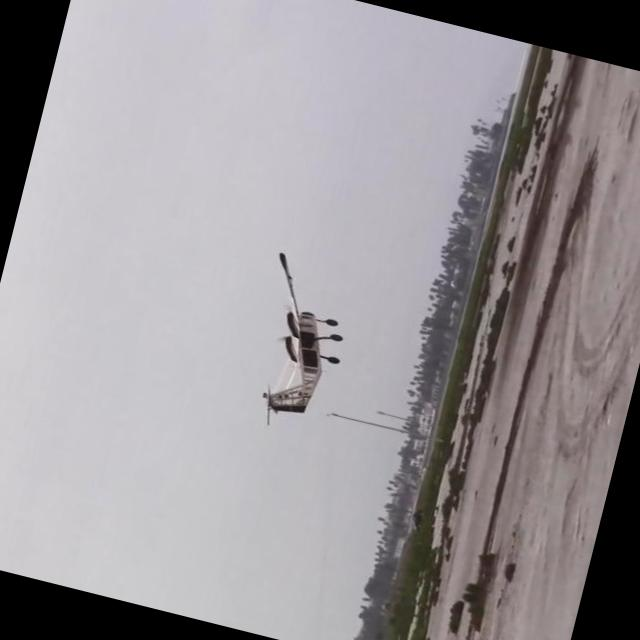UAV: (204, 240, 406, 502)
